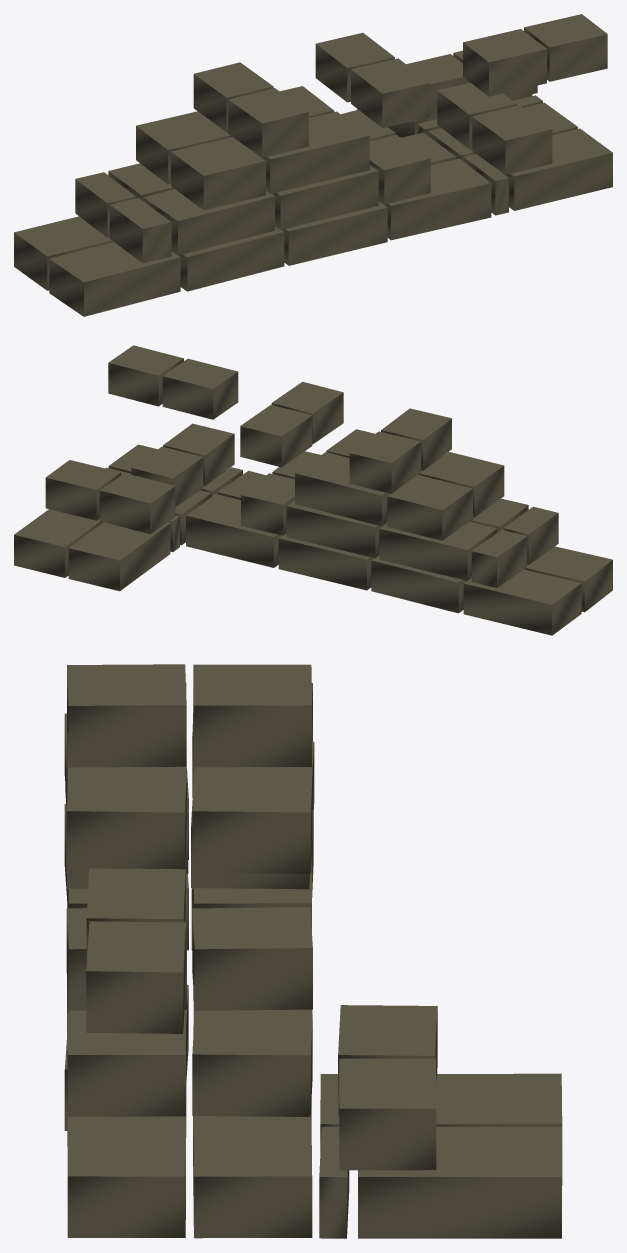
Rendered from SM_SacosRemateEspejo_v1_Talud_e0_Sano_LOD0.fbx.
3 renders of one model, top to bottom at view 1: azimuth 30°, elevation 25°; view 2: azimuth 150°, elevation 25°; view 3: azimuth 270°, elevation 25°, orthographic. The views are drawn at different scales.
Visible parts, largest first — view 1: SM_sacos_piezas_v24_LOD0; view 2: SM_sacos_piezas_v24_LOD0; view 3: SM_sacos_piezas_v24_LOD0.
Boxes of the visible parts, <box> form: SM_sacos_piezas_v24_LOD0: <box>14,14,612,316</box>; SM_sacos_piezas_v24_LOD0: <box>14,345,612,635</box>; SM_sacos_piezas_v24_LOD0: <box>64,664,562,1238</box>.
Size of the model in its own units: 4.38 by 1.17 by 1.98.
